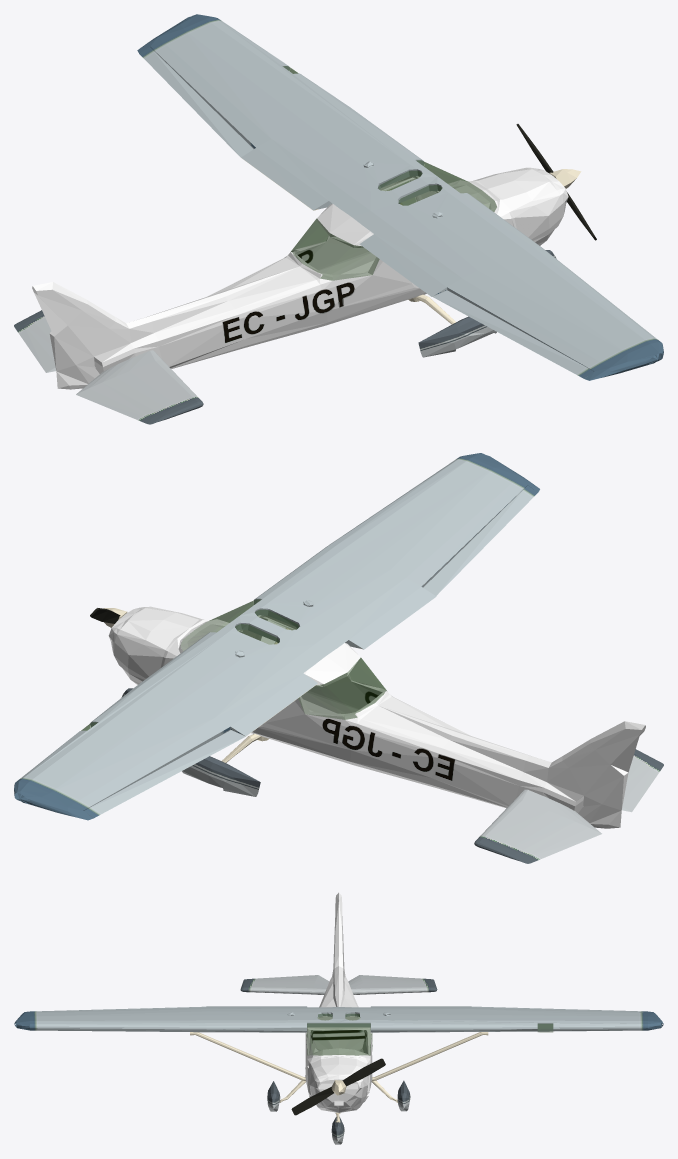
Rendered from cessna.fbx.
3 renders of one model, top to bottom at view 1: azimuth 30°, elevation 25°; view 2: azimuth 150°, elevation 25°; view 3: azimuth 270°, elevation 25°, orthographic. The views are drawn at different scales.
Parts seen in each view (by area): view 1: cessna_ala, cessna_fuselaje, cessna_alita_dcha_, cessna_luna_trasera, cessna_flag_1, cessna_flag, cessna_guardabarros, cessna_alita_izq_, cessna_luna_delantera; view 2: cessna_ala, cessna_fuselaje, cessna_alita_izq_, cessna_luna_trasera, cessna_flag, cessna_flag_1, cessna_guardabarros_3, cessna_alita_dcha_, cessna_luna_delantera; view 3: cessna_ala, cessna_fuselaje, cessna_luna_delantera, cessna_alita_izq_, cessna_alita_dcha_, cessna_fijacion_ala_izq_, cessna_fijacion_ala_dcha, cessna_pala_1, cessna_pala_2.
Boxes of the visible parts, box(x1,y1,x2,y2) form: cessna_ala: box(137, 14, 663, 380); cessna_fuselaje: box(32, 167, 568, 389); cessna_alita_dcha_: box(76, 350, 203, 424); cessna_luna_trasera: box(291, 218, 379, 280); cessna_flag_1: box(433, 290, 593, 378); cessna_flag: box(139, 47, 253, 157); cessna_guardabarros: box(418, 316, 496, 357); cessna_alita_izq_: box(14, 310, 56, 372); cessna_luna_delantera: box(417, 160, 496, 211); cessna_ala: box(14, 453, 539, 820); cessna_fuselaje: box(108, 606, 645, 828); cessna_alita_izq_: box(474, 789, 601, 863); cessna_luna_trasera: box(298, 658, 386, 719); cessna_flag: box(83, 730, 245, 817); cessna_flag_1: box(423, 485, 537, 595); cessna_guardabarros_3: box(182, 756, 260, 796); cessna_alita_dcha_: box(622, 749, 663, 812); cessna_luna_delantera: box(180, 599, 260, 650); cessna_ala: box(14, 1006, 663, 1032); cessna_fuselaje: box(305, 892, 372, 1112); cessna_luna_delantera: box(306, 1023, 371, 1055); cessna_alita_izq_: box(348, 975, 437, 994); cessna_alita_dcha_: box(240, 975, 329, 994); cessna_fijacion_ala_izq_: box(372, 1032, 488, 1080); cessna_fijacion_ala_dcha: box(190, 1032, 305, 1080); cessna_pala_1: box(291, 1086, 333, 1115); cessna_pala_2: box(342, 1058, 385, 1086).
Size of the model in its own units: 8652 by 2025 by 12756.
7 materials, 4 textured.
